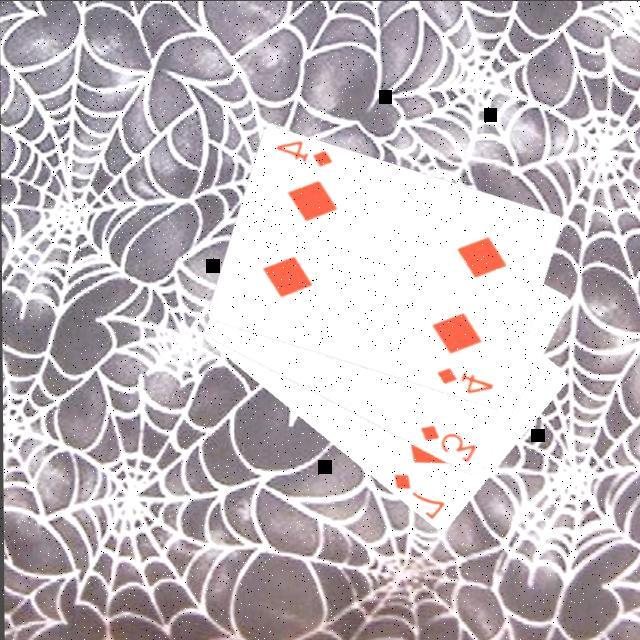3D: (417, 423, 480, 468)
4D: (435, 365, 499, 399), (275, 140, 338, 172)
7D: (391, 471, 449, 522)
